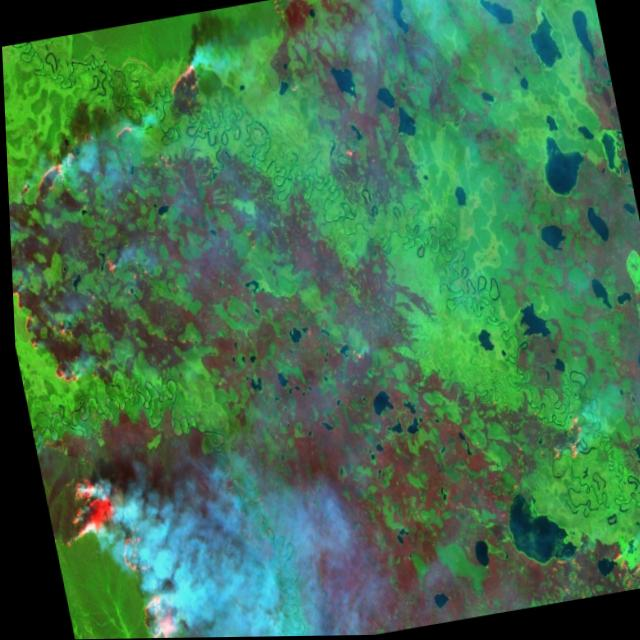fire: (2, 46, 315, 640), (515, 388, 601, 482), (594, 536, 640, 595)
